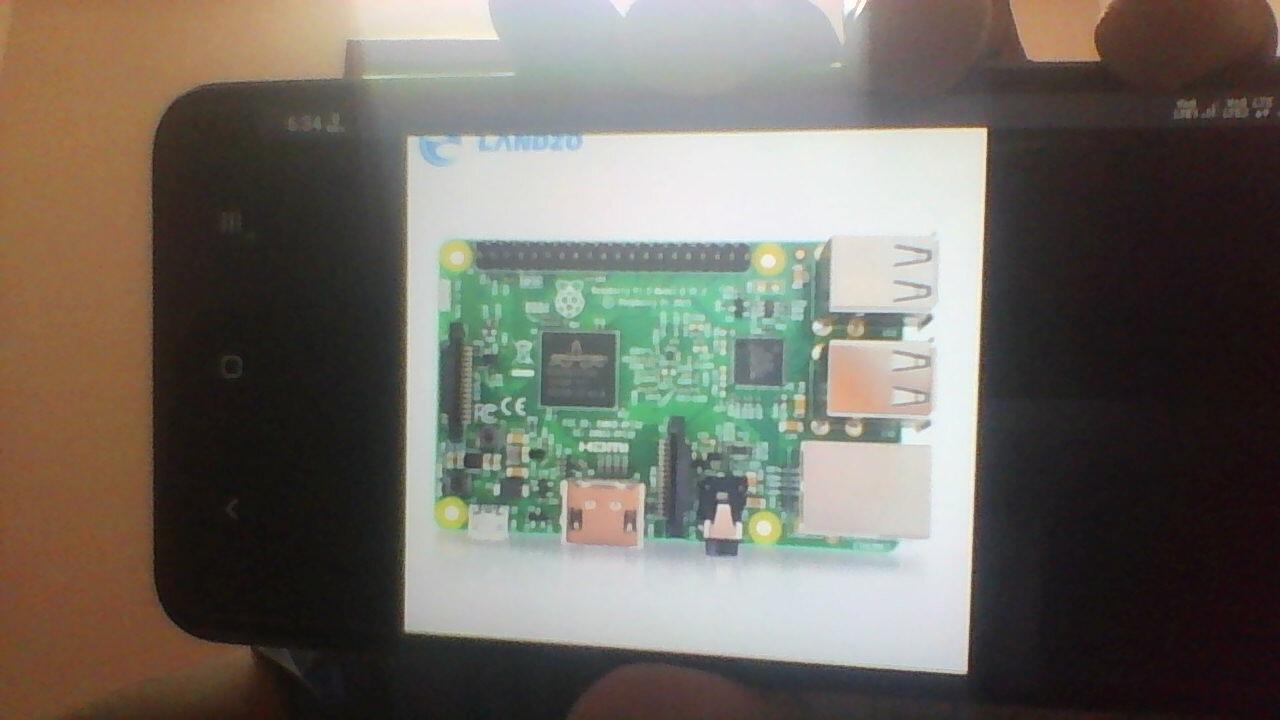aud: (701, 466, 748, 565)
eth: (795, 438, 936, 545)
usb: (817, 335, 939, 424), (821, 230, 940, 312)
